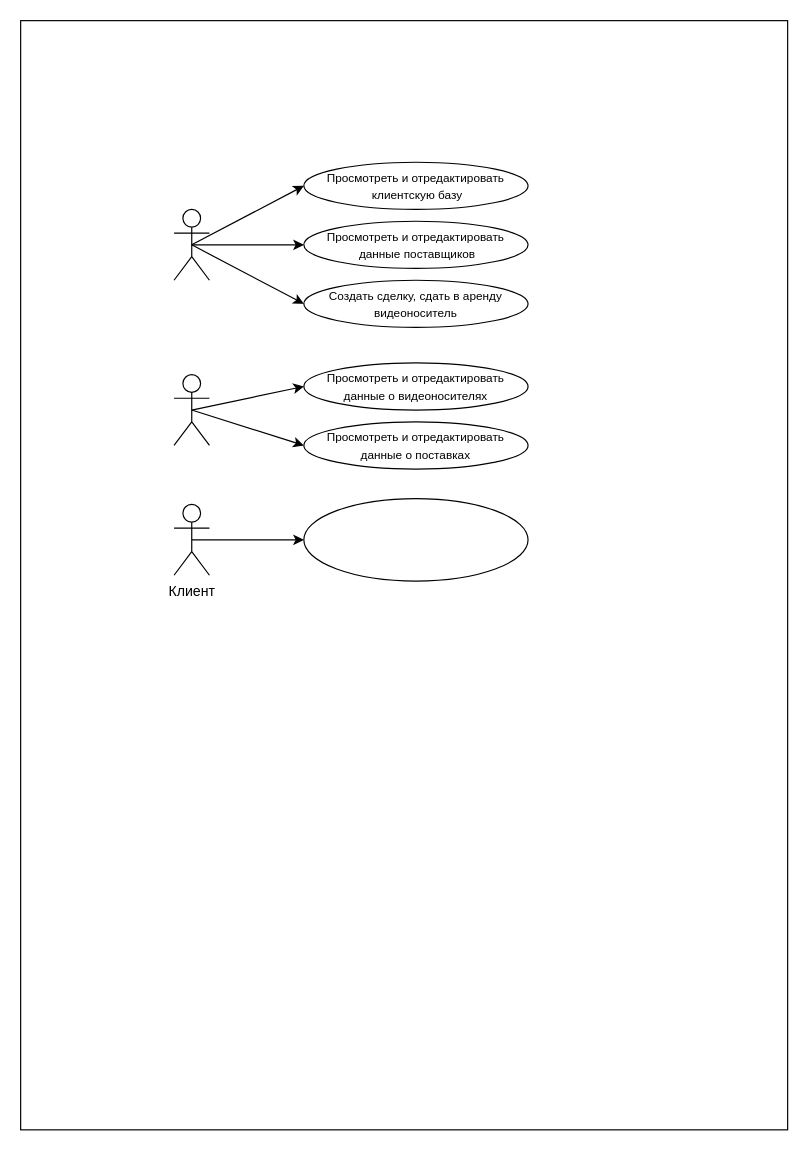
Some shapes in this 808 by 1151 pixel diagram are drawn without their labels. Each missing label, with the box of its shape:
Менеджер по продажам: (173, 208, 209, 280)
Менеджер склада: (173, 373, 209, 445)
Просмотреть и осуществить поиск информации на экране инфомата о видеоносителях: (303, 497, 528, 581)
